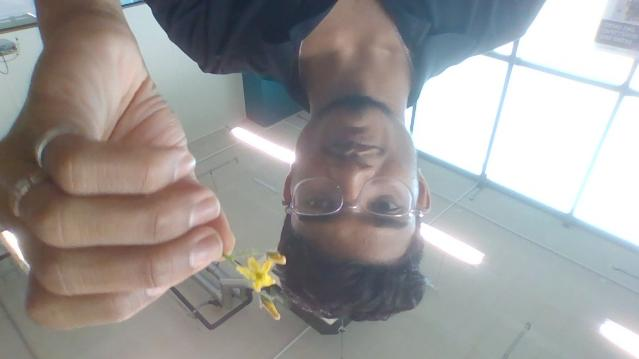Anthesis: (236, 255, 280, 293), (257, 293, 282, 322)
